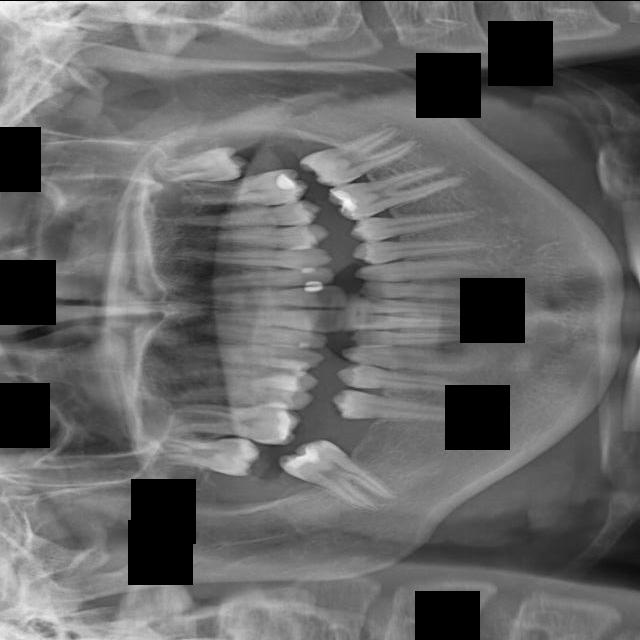AGS Medikal Implant: (370, 153, 371, 153)
AMerOss Implant: (323, 158, 472, 225)
Amalgam filling: (134, 425, 265, 479)
Anthogyr Implant: (346, 208, 489, 242)
Bicon Implant: (347, 235, 502, 263)
BioHorizons Implant: (350, 256, 510, 283)
BioLife Implant: (354, 281, 486, 300)
Biomet 3i Implant: (354, 297, 478, 315)
Blue Sky Bio Implant: (350, 312, 469, 329)
Camlog Implant: (347, 329, 477, 346)
Caries: (190, 266, 340, 291)
Composite filling: (337, 343, 501, 373)
Cowellmedi Implant: (329, 361, 482, 403)
Crown: (329, 389, 476, 421)
DENTSPLY Implant: (159, 398, 305, 448)
Dentis Implant: (357, 485, 358, 486)
Euroteknika Implant: (163, 381, 317, 412)
Filling: (147, 360, 324, 391)
Frontier Implant: (146, 336, 330, 371)
Hiossen Implant: (168, 245, 335, 270)
Implant: (198, 309, 351, 336)
Implant Direct: (162, 317, 333, 350)
Keystone Dental Implant: (192, 283, 349, 309)
MIS Implant: (178, 222, 333, 256)
Mandible: (163, 196, 326, 239)
Maxilla: (169, 162, 313, 229)
Megagen Implant: (152, 139, 257, 201)
